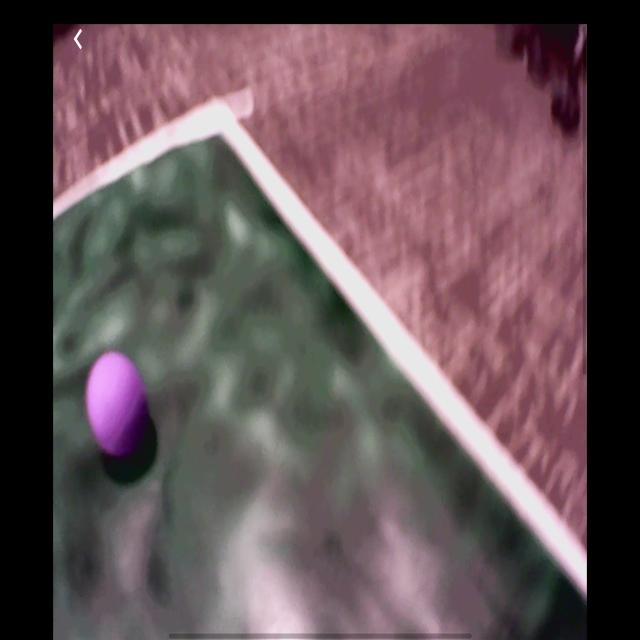ball: (87, 350, 153, 467)
